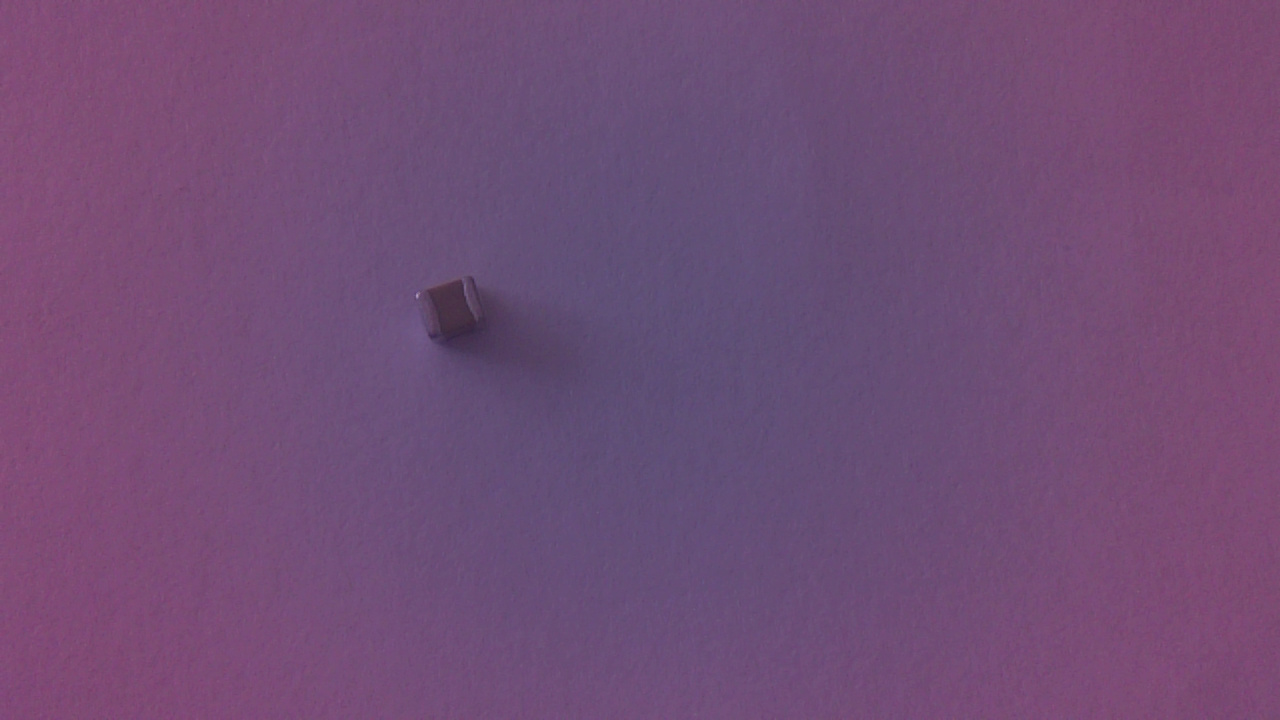Condensator: (416, 275, 491, 349)
